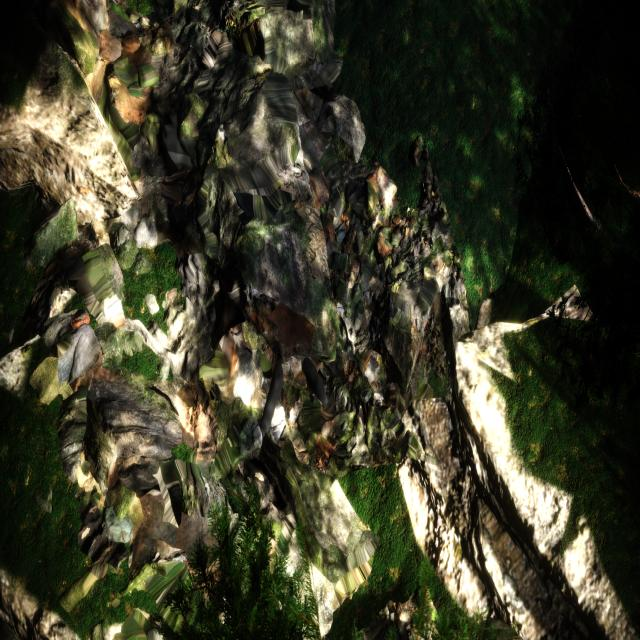Human: (251, 357, 348, 465)
